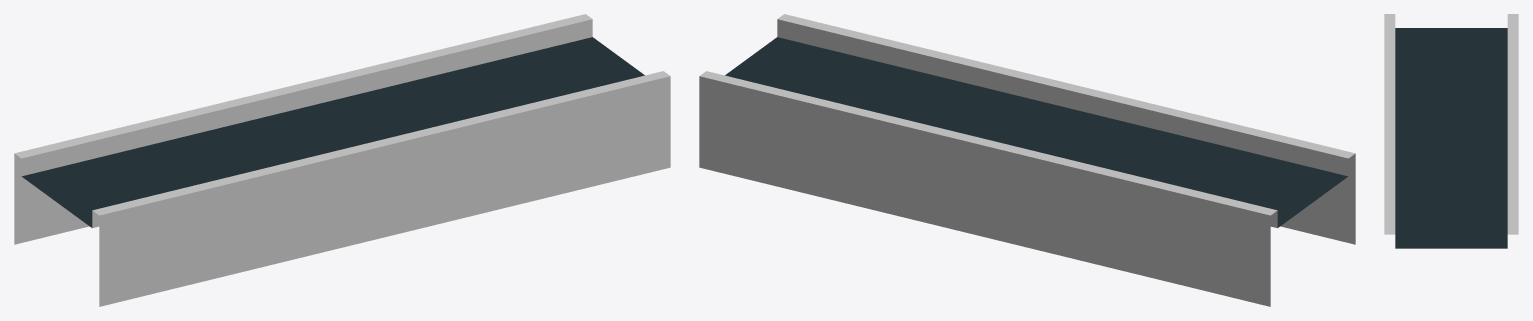
Rendered from MainFloorBack.fbx.
3 renders of one model, left to right at view 1: azimuth 30°, elevation 25°; view 2: azimuth 150°, elevation 25°; view 3: azimuth 270°, elevation 25°, orthographic. The views are drawn at different scales.
Visible parts, largest first — view 1: Cube; view 2: Cube; view 3: Cube.
Boxes of the visible parts, <box> form: Cube: <box>14,14,670,306</box>; Cube: <box>699,14,1355,306</box>; Cube: <box>1384,14,1518,248</box>.
Size of what is drawn, in the model's own units: 1308 by 200 by 337.
